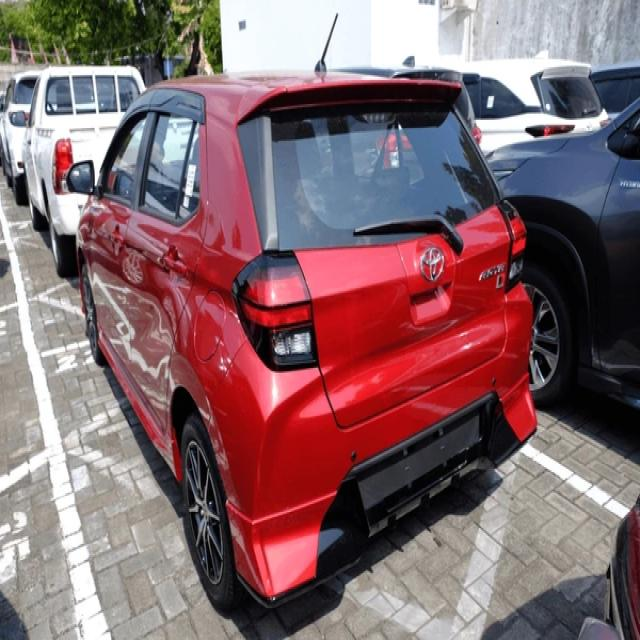toyota: (418, 242, 451, 286)
